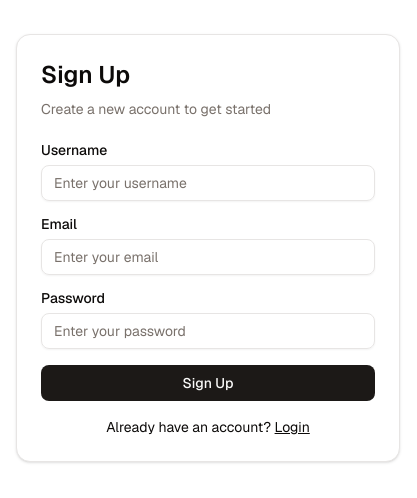
Test: Register Page › should display error message on failed registration
Type "rakshith3" into the field labelled "Username" at [208, 183], box [41,165,375,201]
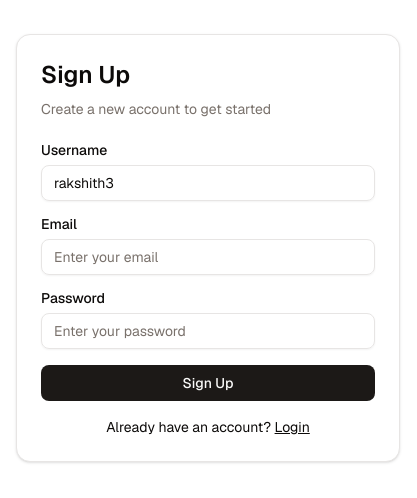
Type "test@example.com" into the field labelled "Email" at [208, 257], box [41,239,375,275]
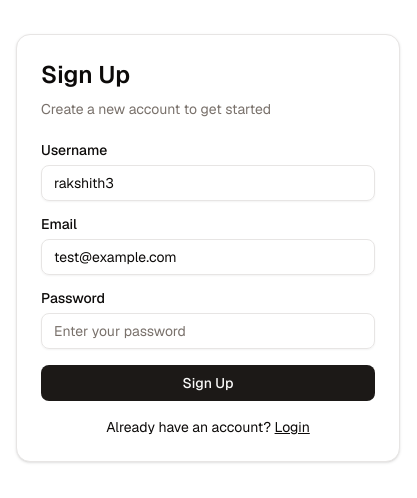
Type "Pass@123" into the password field labelled "Password" at [208, 331], box [41,313,375,349]
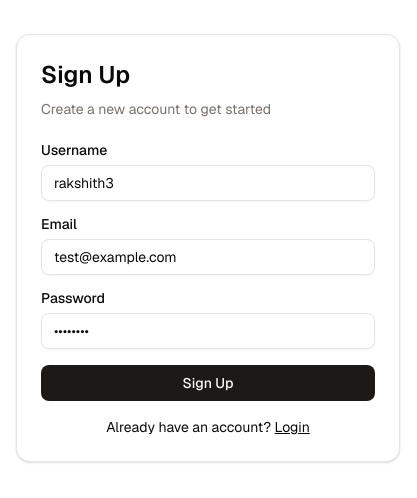
Click the button "Sign Up" at [208, 383], box [41,365,375,401]
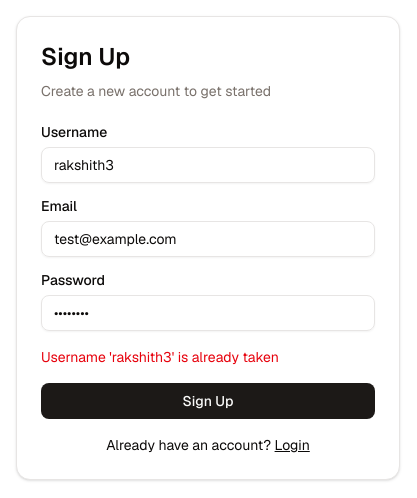
Now the text "Username 'rakshith3' is already taken" is shown, box [41,348,279,366]
